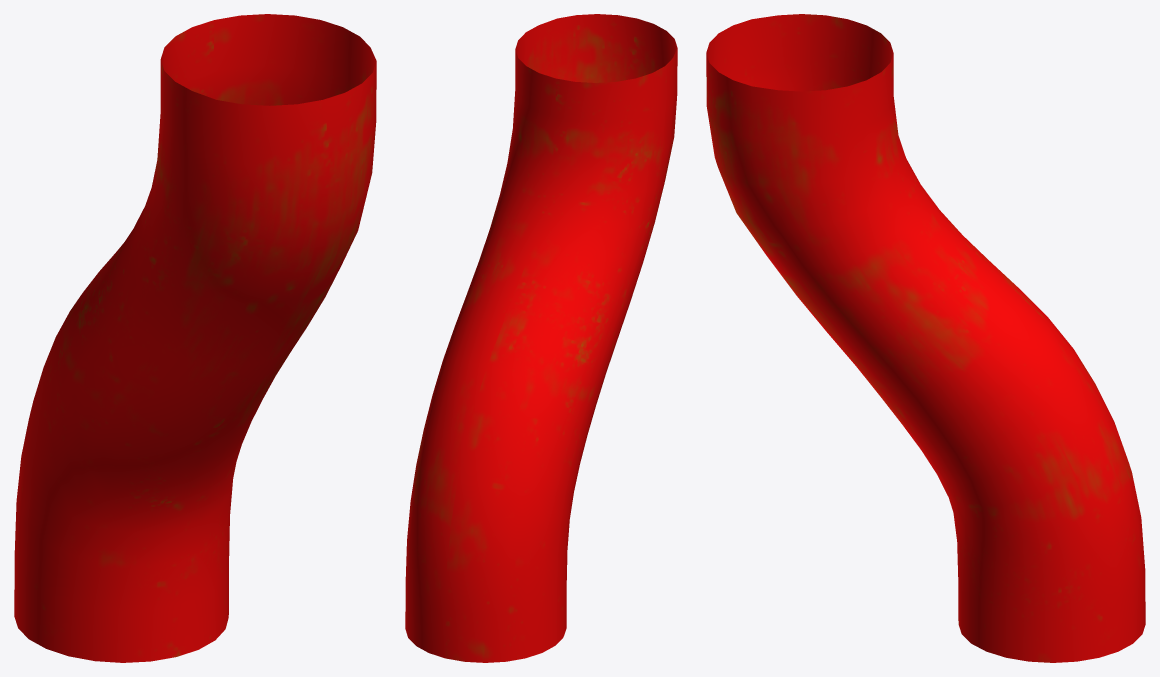
Rendered from SM_PlasticPipe_curv_03.fbx.
3 renders of one model, left to right at view 1: azimuth 30°, elevation 25°; view 2: azimuth 150°, elevation 25°; view 3: azimuth 270°, elevation 25°, orthographic. The views are drawn at different scales.
Visible parts, largest first — view 1: SM_PlasticPipe_curv_03_LOD0; view 2: SM_PlasticPipe_curv_03_LOD0; view 3: SM_PlasticPipe_curv_03_LOD0.
Part boxes in pixels (x1,y1,x2,y2): SM_PlasticPipe_curv_03_LOD0: (14,14,376,662); SM_PlasticPipe_curv_03_LOD0: (405,14,677,662); SM_PlasticPipe_curv_03_LOD0: (706,14,1145,662).
Size of the model in its own units: 14.56 by 34.85 by 50.
